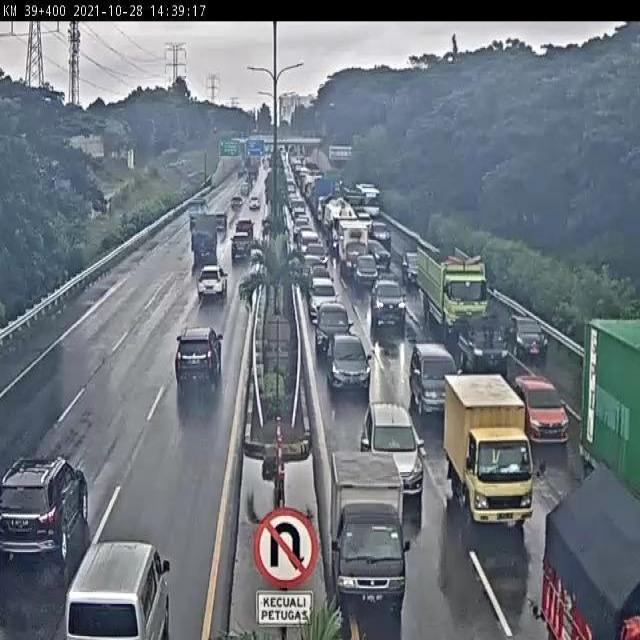big truck: (575, 311, 640, 508), (406, 233, 493, 336)
car: (53, 532, 171, 640), (0, 454, 101, 578), (362, 396, 429, 493), (508, 370, 570, 450), (402, 327, 458, 413), (170, 315, 230, 393), (506, 309, 570, 368), (319, 330, 373, 398), (307, 297, 355, 359), (367, 272, 415, 328), (188, 269, 226, 312), (399, 245, 424, 292), (227, 229, 258, 263), (232, 216, 258, 243)
mid truck: (527, 470, 640, 640), (423, 363, 529, 524), (190, 200, 225, 260)
small truck: (309, 446, 419, 630)
